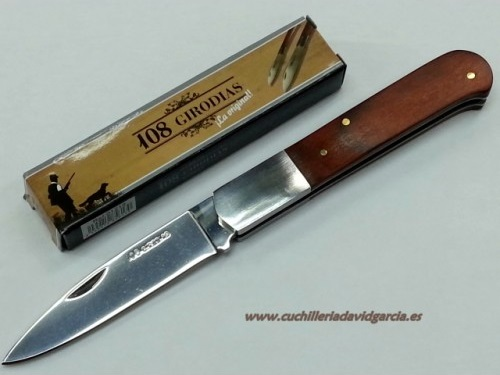knife: (1, 194, 238, 368)
